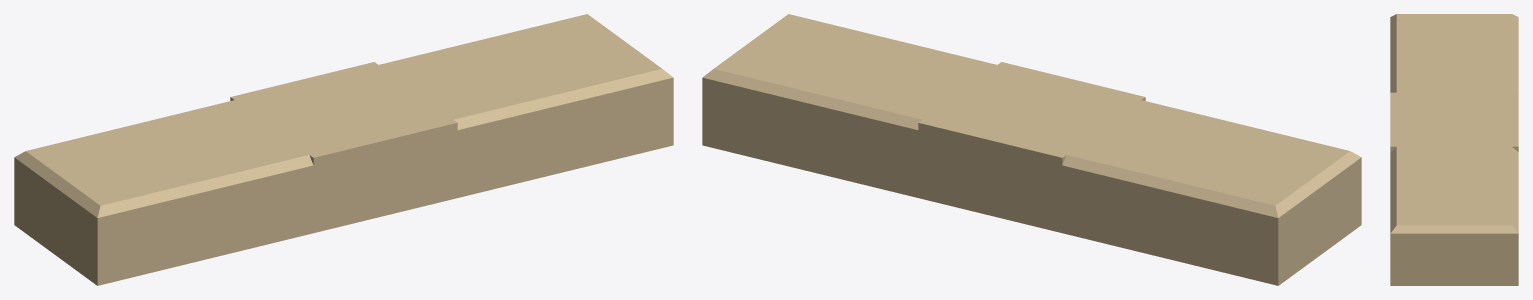
Rendered from Buttons.fbx.
3 renders of one model, left to right at view 1: azimuth 30°, elevation 25°; view 2: azimuth 150°, elevation 25°; view 3: azimuth 270°, elevation 25°, orthographic. The views are drawn at different scales.
Visible parts, largest first — view 1: SquareButton_0.2_4to1, SquareButton_0.1_4to1, KeyboardKeyRounded_0.1_4to1, KeyboardKey_0.1_4to1, SquareButton_0.1_3to1, SquareButton_0.2_2to1, SquareButton_0.2_3to1, SquareButton_0.2_3to2, SquareButton_0.1_2to1, KeyboardKeyRounded_3to2, SquareButton, SquareButtonPlunger_Rounded0.3_4to1 (+13 smaller); view 2: SquareButton_0.2_4to1, SquareButton_0.1_4to1, KeyboardKeyRounded_0.1_4to1, SquareButton_0.1_2to1, SquareButton_0.2_2to1, SquareButton_0.2_3to1, SquareButton_0.1_3to1, KeyboardKey_0.1_4to1, SquareButton, SquareButton_0.1, KeyboardKey_4to1, SquareButtonPlunger_Rounded0.3_4to1 (+15 smaller); view 3: SquareButton_0.2_4to1, SquareButton_0.1_4to1, KeyboardKeyRounded_0.1_4to1, KeyboardKey_0.1_4to1, SquareButton_0.2_2to1, SquareButton_0.1_3to1, KeyboardKeyRounded_0.1_2to1, KeyboardKey_4to1, KeyboardKeyRounded_4to1, SquareButton_0.1_3to2, SquareButton_0.2_3to1, SquareButton (+16 smaller).
Boxes of the visible parts, x1,y1,x2,y2 form: SquareButton_0.2_4to1: (14,19,673,285); SquareButton_0.1_4to1: (14,14,673,284); KeyboardKeyRounded_0.1_4to1: (54,25,627,190); KeyboardKey_0.1_4to1: (83,24,603,190); SquareButton_0.1_3to1: (98,31,601,222); SquareButton_0.2_2to1: (198,55,529,249); SquareButton_0.2_3to1: (165,40,601,260); SquareButton_0.2_3to2: (234,66,493,241); SquareButton_0.1_2to1: (170,49,529,247); KeyboardKeyRounded_3to2: (232,65,455,140); SquareButton: (230,62,457,189); SquareButtonPlunger_Rounded0.3_4to1: (27,106,650,250); SquareButton_0.2_4to1: (702,19,1361,285); SquareButton_0.1_4to1: (702,14,1361,285); KeyboardKeyRounded_0.1_4to1: (742,30,1311,193); SquareButton_0.1_2to1: (858,50,1205,249); SquareButton_0.2_2to1: (852,57,1134,250); SquareButton_0.2_3to1: (838,37,1242,267); SquareButton_0.1_3to1: (786,32,1277,266); KeyboardKey_0.1_4to1: (741,30,1317,193); SquareButton: (918,62,1145,232); SquareButton_0.1: (973,67,1133,232); KeyboardKey_4to1: (729,26,1283,195); SquareButtonPlunger_Rounded0.3_4to1: (724,111,1348,246); SquareButton_0.2_4to1: (1390,16,1518,285); SquareButton_0.1_4to1: (1390,14,1518,285); KeyboardKeyRounded_0.1_4to1: (1418,21,1500,218); KeyboardKey_0.1_4to1: (1418,21,1500,218); SquareButton_0.2_2to1: (1403,71,1505,168); SquareButton_0.1_3to1: (1390,41,1518,206); KeyboardKeyRounded_0.1_2to1: (1419,75,1500,163); KeyboardKey_4to1: (1412,18,1506,220); KeyboardKeyRounded_4to1: (1412,18,1506,220); SquareButton_0.1_3to2: (1390,81,1518,165); SquareButton_0.2_3to1: (1403,43,1504,147); SquareButton: (1390,92,1518,151).
Bounding box in the file's own units: 800 × 120 × 200.
